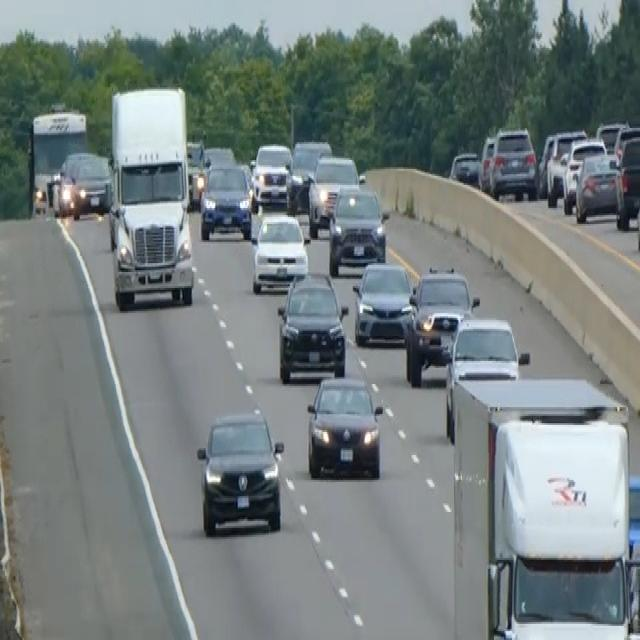bus: (25, 105, 88, 217)
car: (195, 407, 284, 537), (443, 315, 529, 441), (404, 263, 479, 386), (305, 373, 383, 480), (276, 268, 348, 382), (327, 182, 387, 276), (352, 258, 414, 346), (250, 210, 309, 293), (307, 153, 360, 236), (199, 160, 252, 240), (489, 124, 538, 201), (561, 135, 607, 212), (286, 137, 332, 213), (574, 150, 622, 222), (545, 130, 586, 206), (250, 140, 292, 210), (71, 151, 112, 219), (615, 133, 639, 230), (51, 149, 85, 217), (185, 137, 206, 206), (448, 149, 480, 187), (595, 119, 627, 155), (478, 133, 496, 192), (201, 142, 235, 169), (635, 180, 639, 254)
lorry: (106, 82, 195, 311)
